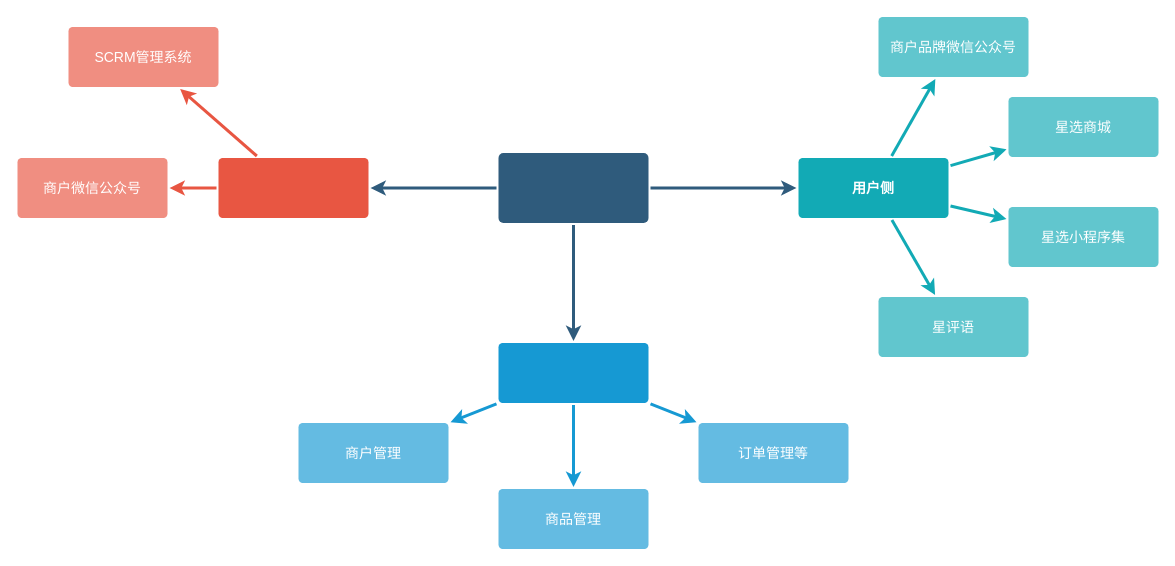
Some shapes in this 1175 by 566 pixel diagram are drawn without their labels. The shapes that lost their labels are listed below. From the top down, each one's box as (x1, y1, x2, y2) in pixels, then its label:
(218, 158, 368, 218): 商户侧
(498, 152, 648, 222): 超会营销平台
(498, 342, 648, 402): 平台侧
